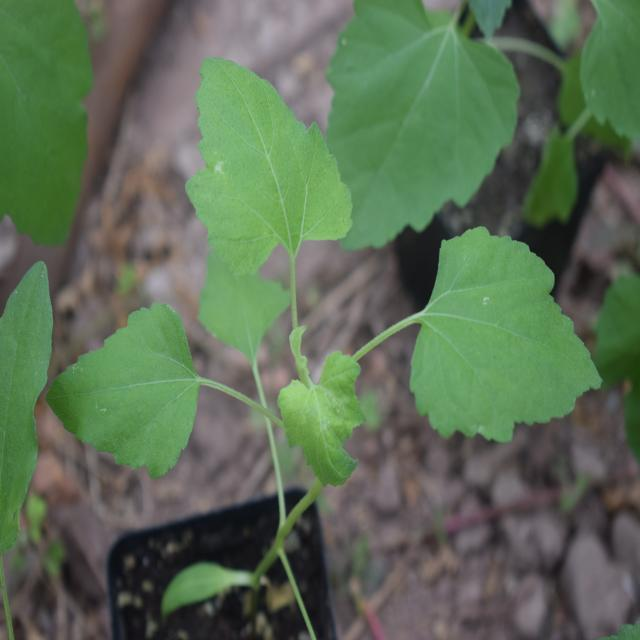cocklebur: (46, 59, 596, 517)
